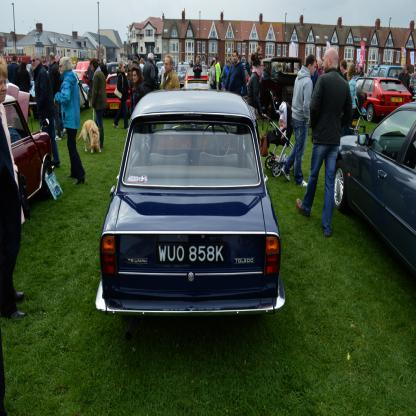Car: (2, 60, 416, 342)
